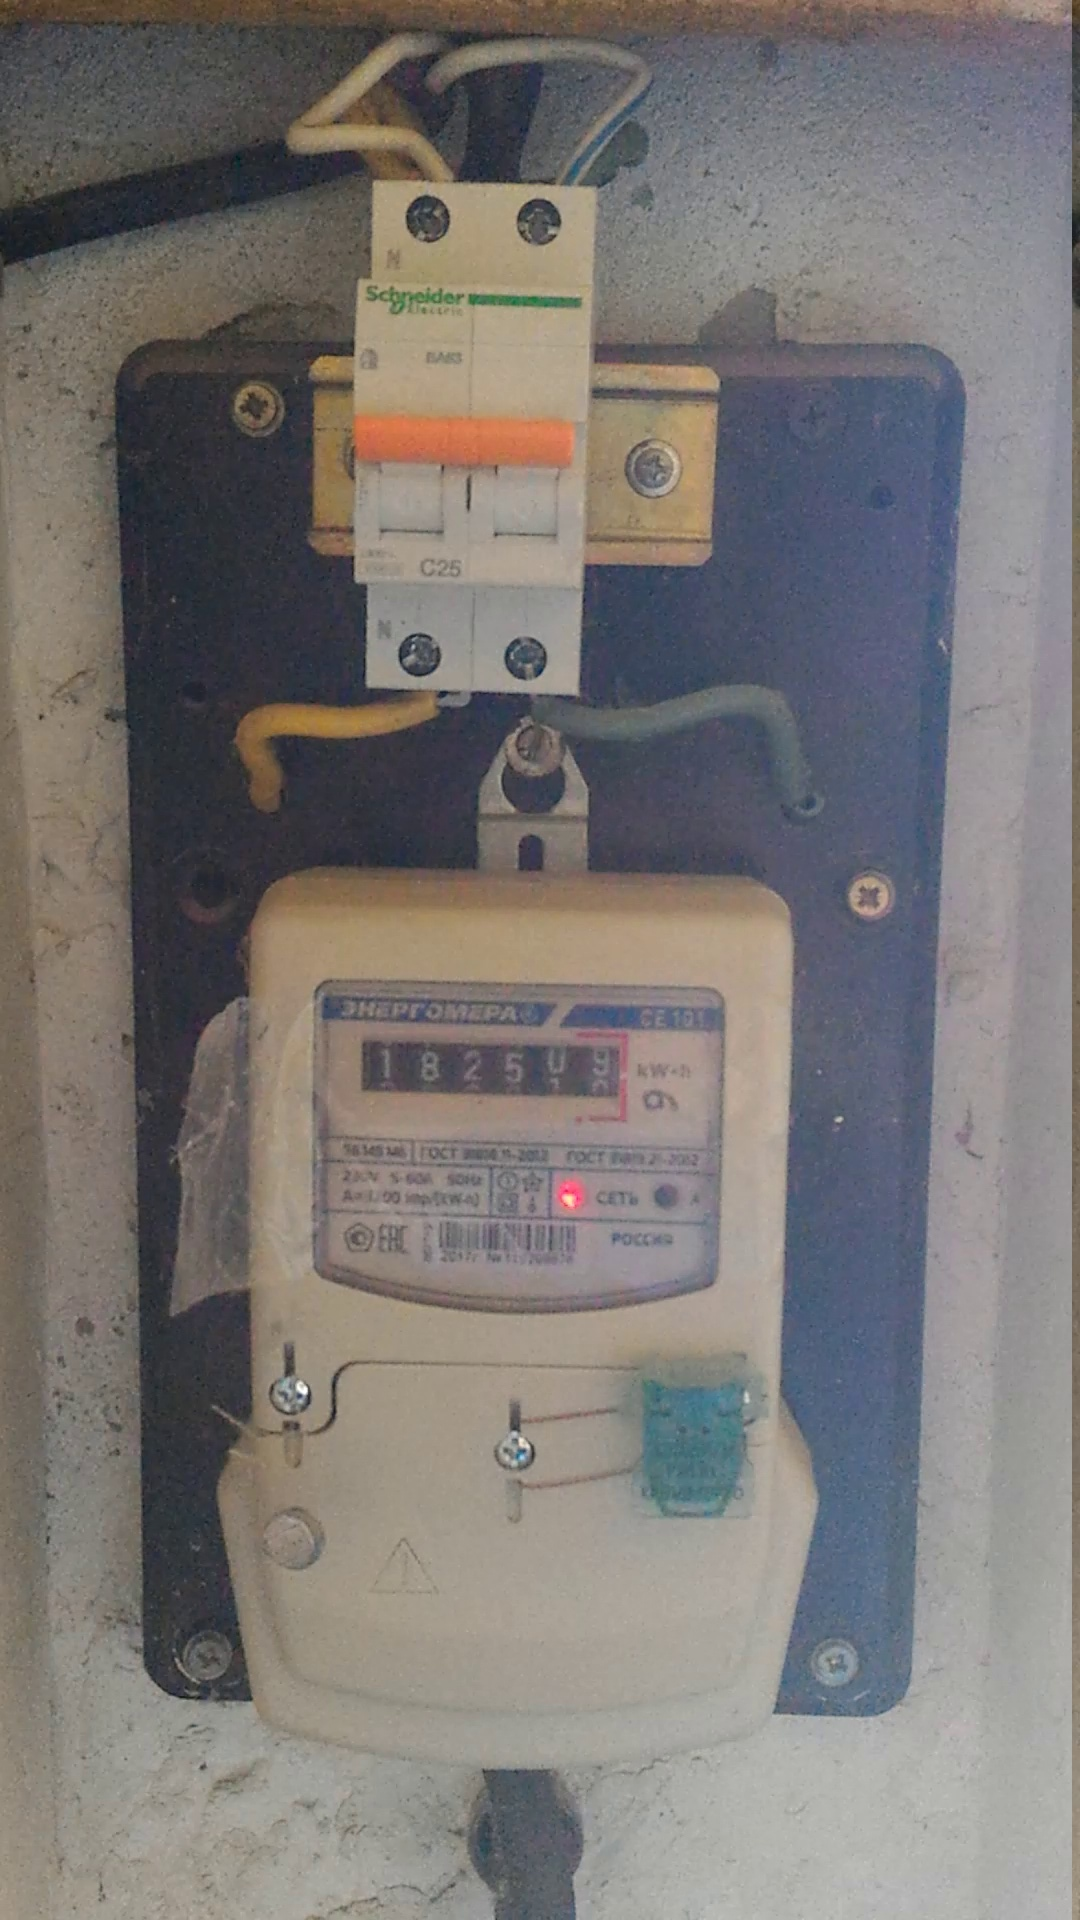counter: (237, 907, 783, 1749)
counter_screen: (357, 1038, 624, 1100)
